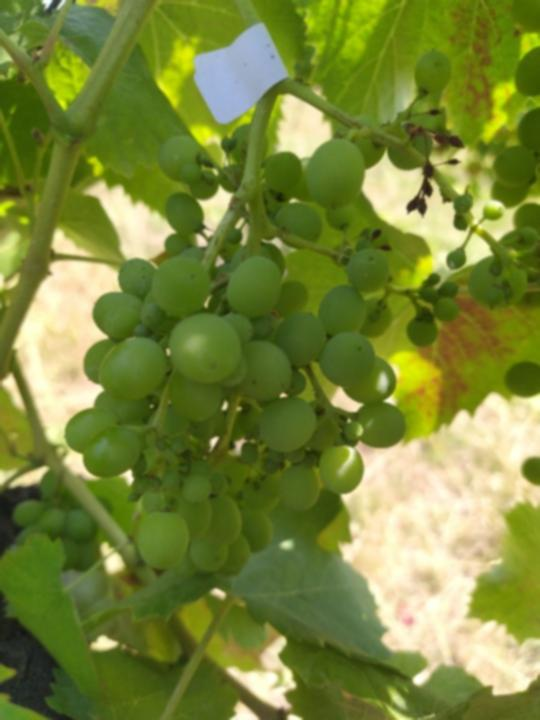grape: (62, 46, 538, 577)
